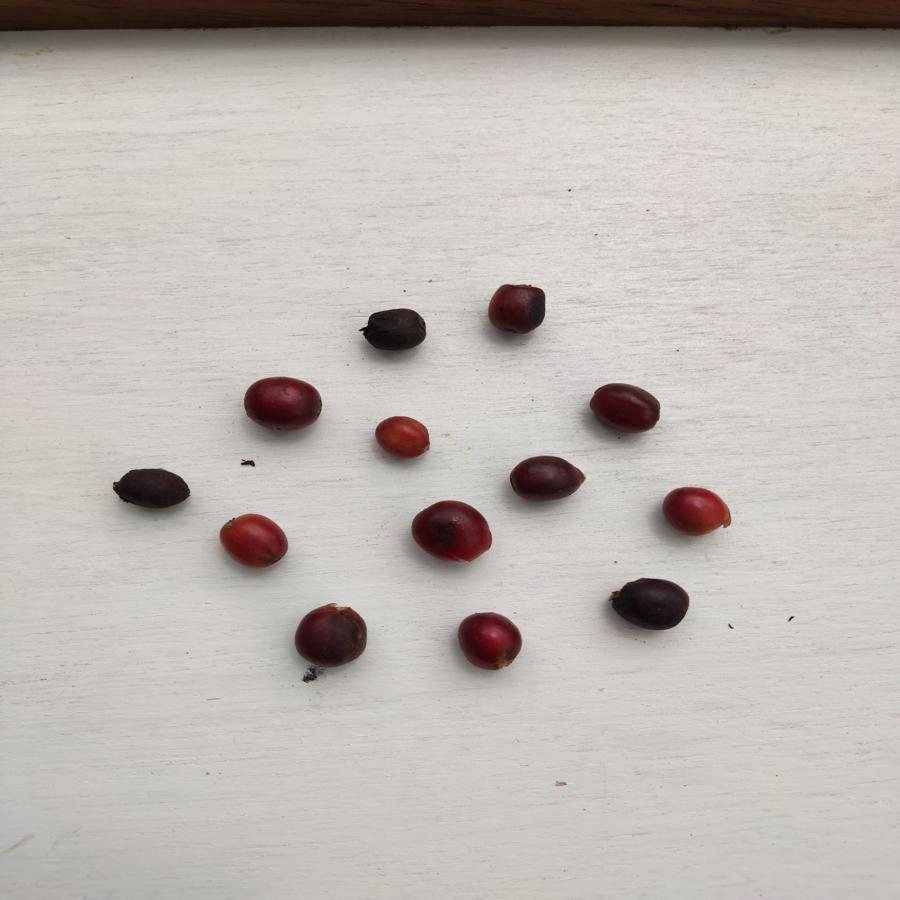Maduro: (217, 512, 291, 567), (662, 484, 729, 541), (373, 412, 432, 463)
Sobremaduro: (408, 499, 494, 565), (292, 603, 371, 668), (608, 575, 692, 633), (453, 608, 523, 673), (242, 377, 323, 430), (507, 452, 587, 504), (586, 380, 662, 434), (110, 464, 195, 508), (485, 280, 548, 338), (359, 305, 426, 352)
